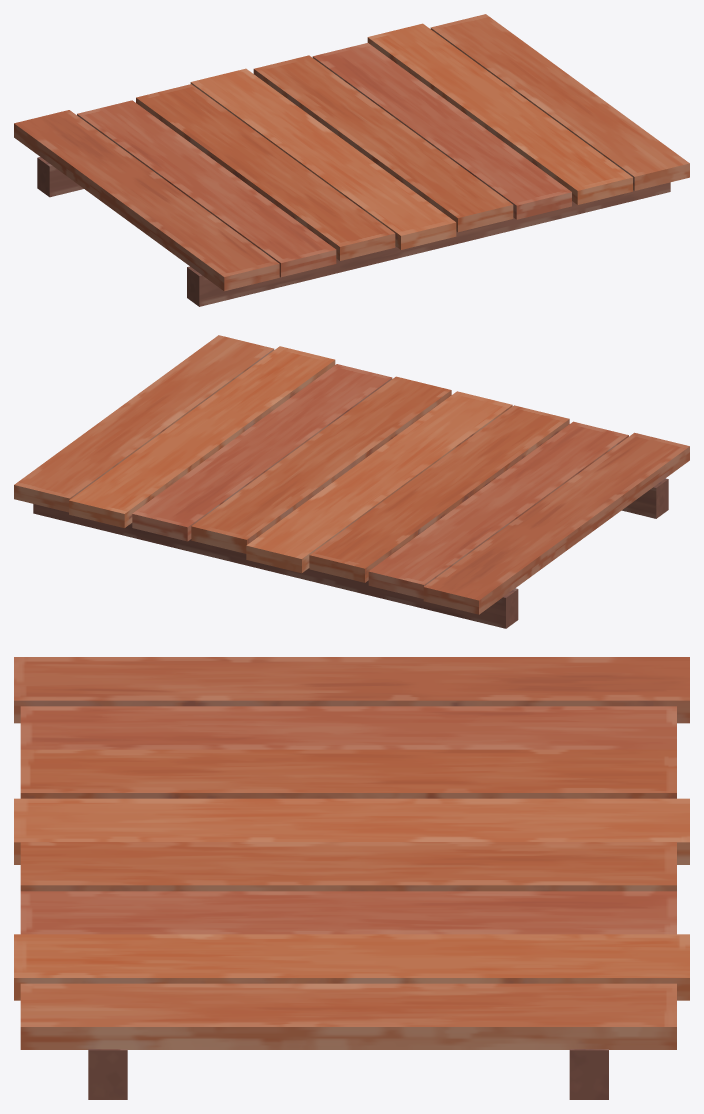
File: plank_low.fbx
3 renders of one model, top to bottom at view 1: azimuth 30°, elevation 25°; view 2: azimuth 150°, elevation 25°; view 3: azimuth 270°, elevation 25°, orthographic. The views are drawn at different scales.
Parts seen in each view (by area): view 1: plank; view 2: plank; view 3: plank.
Boxes of the visible parts, x1=… form: plank: x1=14, y1=14, x2=689, y2=306; plank: x1=14, y1=335, x2=689, y2=628; plank: x1=14, y1=657, x2=689, y2=1099.
Size of the model in its own units: 8 by 0.75 by 6.18.
1 material, 1 textured.
